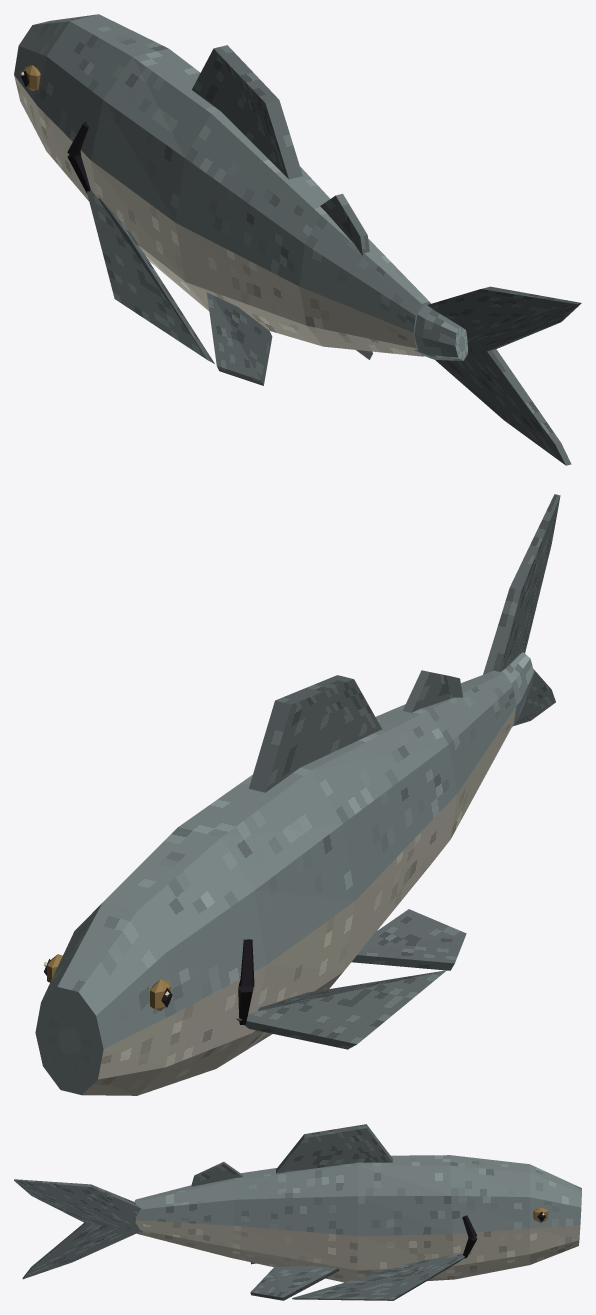
Rendered from mon_fish_whitefish.glb.
3 views of the same model, one above another, from view 1: azimuth 30°, elevation 25°; view 2: azimuth 150°, elevation 25°; view 3: azimuth 270°, elevation 25° (orthographic). The views are drawn at different scales.
Visible parts, largest first — view 1: closed_body; view 2: closed_body; view 3: closed_body.
Boxes of the visible parts, box(x1,y1,x2,y2) form: closed_body: box(14, 14, 581, 465); closed_body: box(35, 494, 560, 1095); closed_body: box(14, 1124, 581, 1300).
Bounding box in the file's own units: 0.2405 × 0.3532 × 1.18.
1 material, 1 textured.
